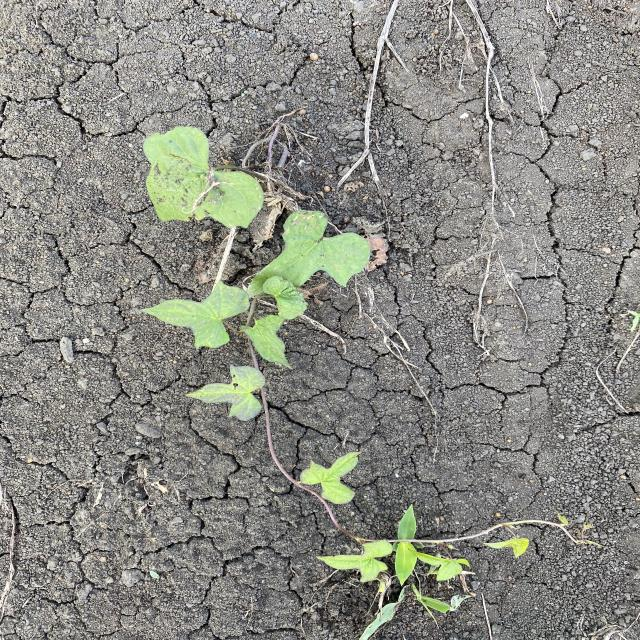MorningGlory: (138, 124, 603, 584)
